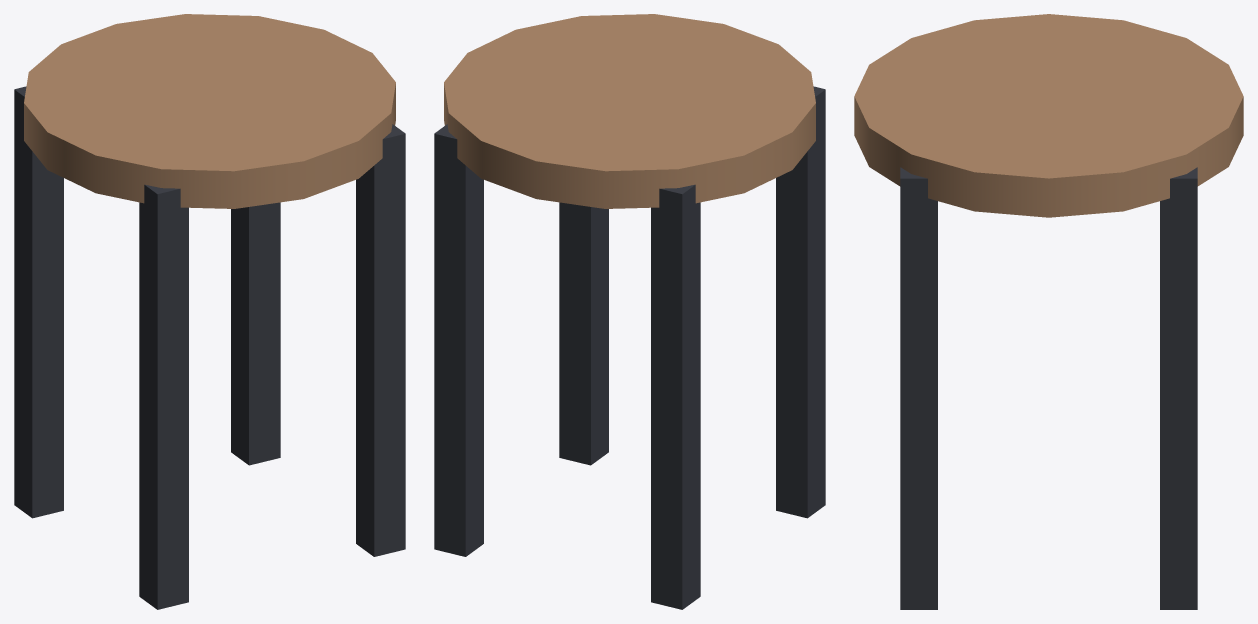
Rendered from stool.glb.
3 renders of one model, left to right at view 1: azimuth 30°, elevation 25°; view 2: azimuth 150°, elevation 25°; view 3: azimuth 270°, elevation 25°, orthographic. The views are drawn at different scales.
Visible parts, largest first — view 1: box (×4), cyl; view 2: box (×4), cyl; view 3: cyl, box (×2).
Part boxes in pixels (x1,y1,x2,y2): box (×4): [14, 86, 405, 609]; cyl: [24, 14, 395, 208]; box (×4): [434, 86, 825, 609]; cyl: [444, 14, 815, 208]; cyl: [854, 14, 1243, 217]; box (×2): [900, 167, 1197, 609].
Size of the model in its own units: 0.36 by 0.46 by 0.36.
